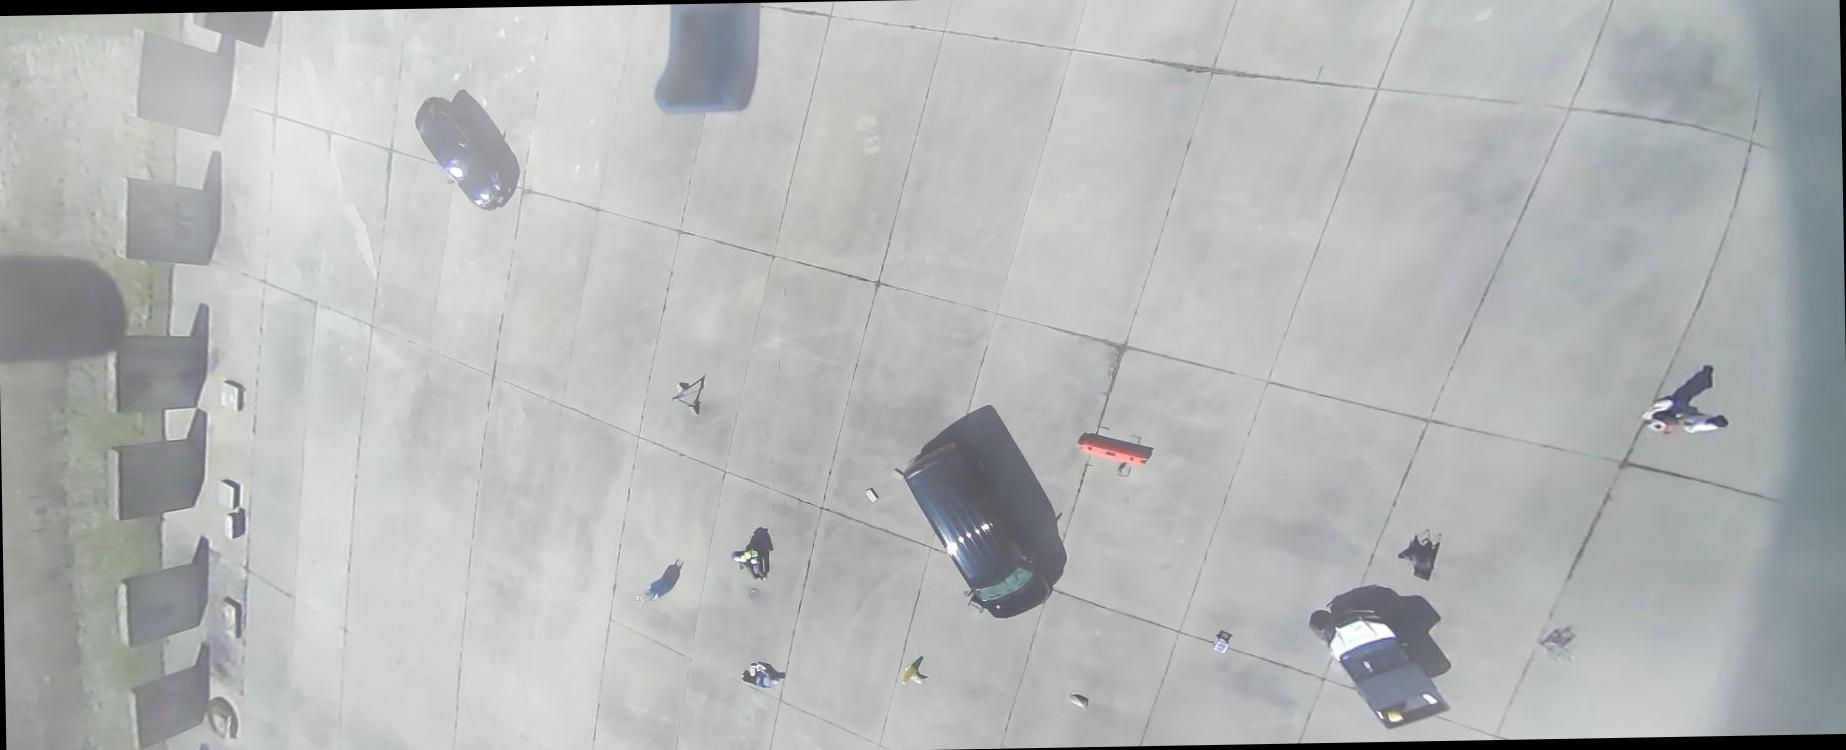vehicle: (904, 438, 1053, 620), (1310, 605, 1452, 731), (414, 95, 517, 211)
